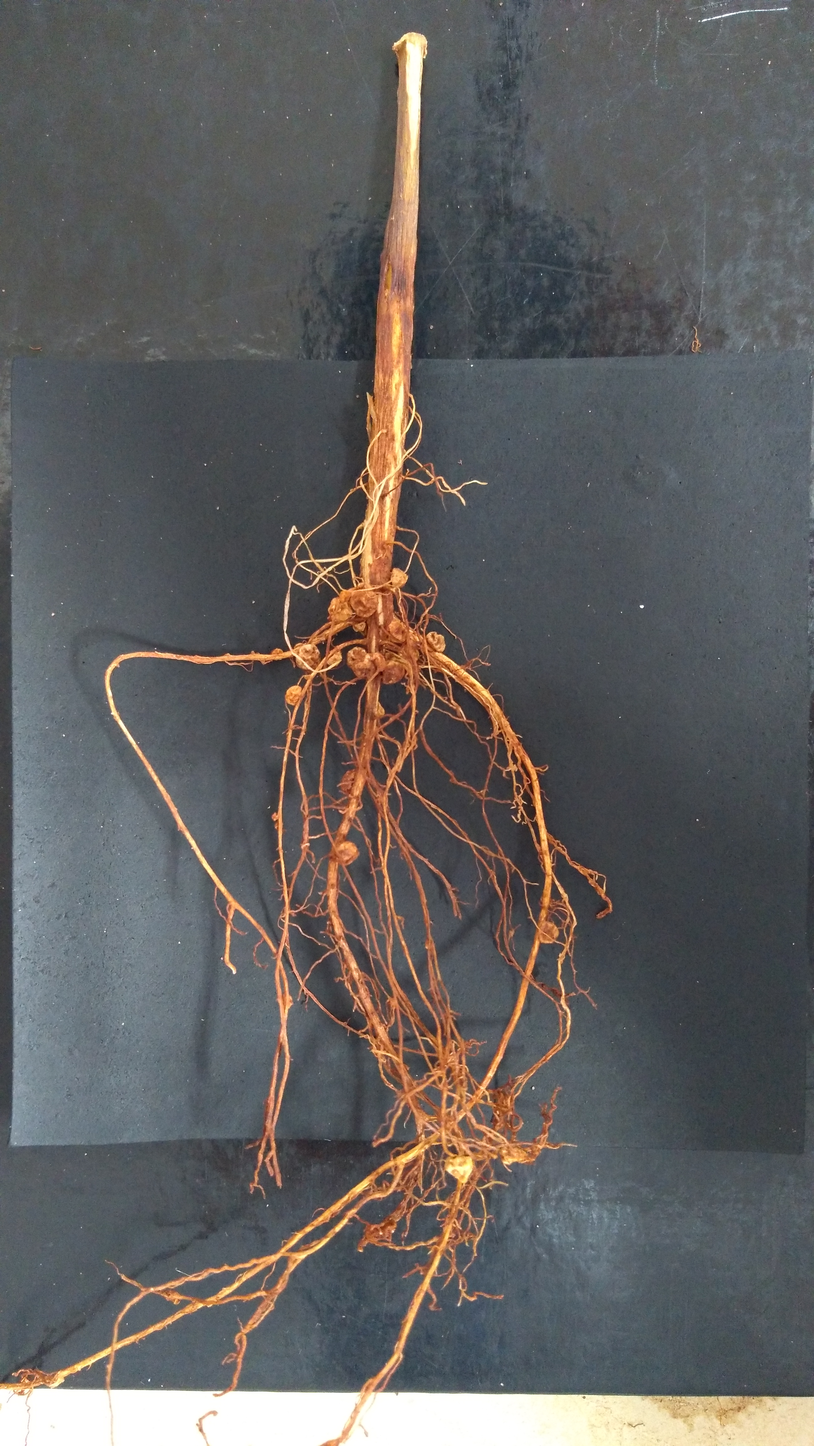nodule: (291, 642, 322, 675), (325, 589, 354, 624), (442, 1154, 474, 1185), (348, 589, 381, 618), (345, 645, 370, 681), (335, 840, 361, 868), (498, 1143, 529, 1165), (381, 660, 406, 687), (537, 919, 561, 946), (425, 629, 448, 654), (397, 642, 420, 665), (339, 767, 359, 793), (386, 618, 407, 642), (390, 566, 409, 591), (283, 684, 303, 707), (44, 1370, 66, 1390), (364, 652, 385, 672), (326, 648, 345, 668), (373, 700, 385, 722), (269, 647, 286, 662), (352, 621, 366, 633)
